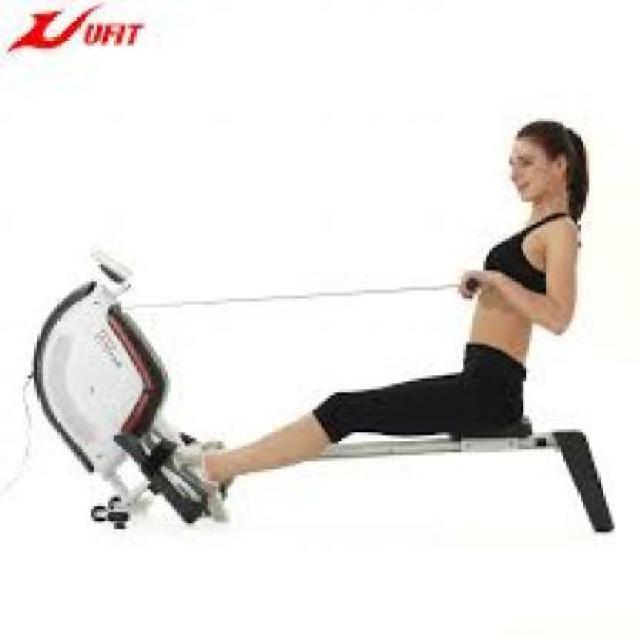Seated Cable Rows: (31, 117, 626, 554)
